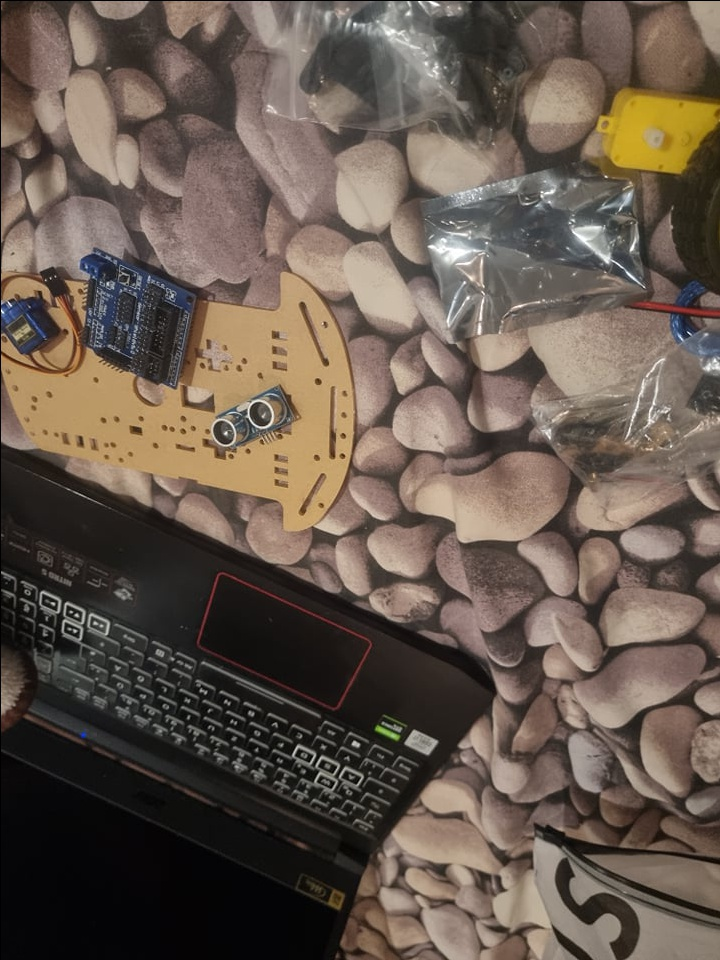5V EXPANSION: (70, 242, 197, 390)
SENSOR: (201, 384, 300, 451)
